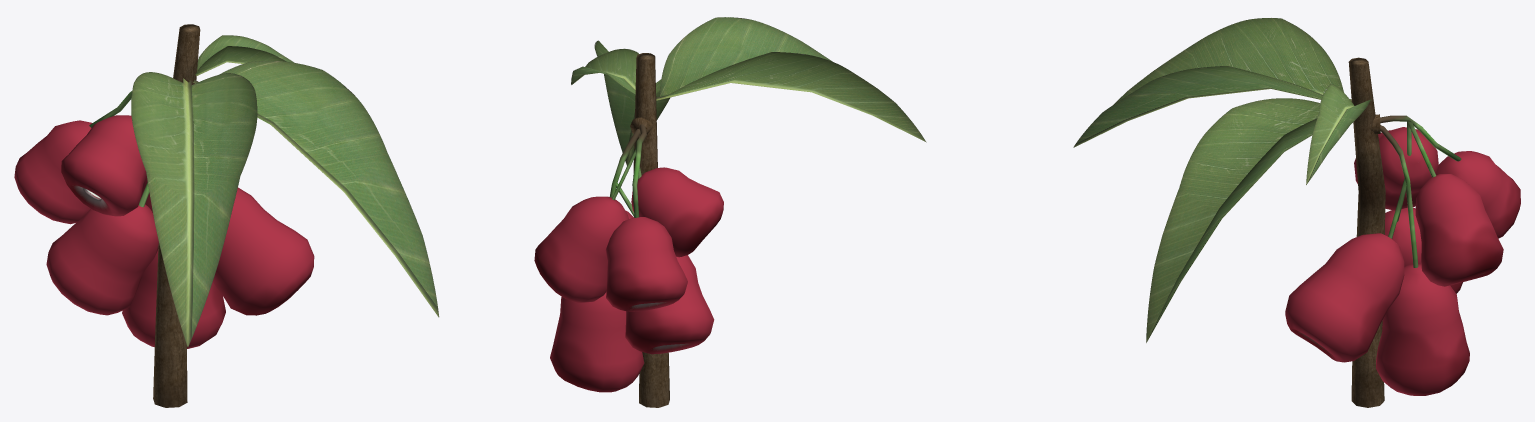
Rendered from Jambu.fbx.
The picture shows the model from 3 angles, left to right: view 1: azimuth 30°, elevation 25°; view 2: azimuth 150°, elevation 25°; view 3: azimuth 270°, elevation 25°; orthographic projection. The views are drawn at different scales.
Visible parts, largest first — view 1: pPlane1, pPlane2, pCylinder9, pCylinder8, pCylinder12, pCylinder1, pCylinder10, pCylinder5, pPlane3; view 2: pPlane1, pCylinder5, pCylinder11, pCylinder10, pCylinder12, pCylinder9, pCylinder1, pPlane2, pPlane3, pCylinder4, pCylinder3; view 3: pPlane2, pPlane1, pCylinder8, pCylinder5, pCylinder11, pCylinder1, pCylinder10, pCylinder12, pPlane3, pCylinder9, pCylinder3, pCylinder4.
Part boxes in pixels (x1,y1,x2,y2): pPlane1: [131, 72, 257, 346]; pPlane2: [193, 61, 439, 317]; pCylinder9: [46, 204, 158, 315]; pCylinder8: [212, 187, 314, 315]; pCylinder12: [61, 115, 146, 216]; pCylinder1: [153, 24, 200, 407]; pCylinder10: [14, 120, 92, 224]; pCylinder5: [122, 249, 225, 348]; pPlane3: [195, 35, 294, 75]; pPlane1: [656, 17, 926, 142]; pCylinder5: [550, 292, 644, 392]; pCylinder11: [534, 196, 628, 302]; pCylinder10: [605, 217, 687, 311]; pCylinder12: [631, 167, 723, 257]; pCylinder9: [625, 255, 714, 354]; pCylinder1: [633, 53, 669, 407]; pPlane2: [594, 40, 669, 165]; pPlane3: [571, 48, 638, 94]; pCylinder4: [632, 124, 646, 217]; pCylinder3: [609, 129, 640, 197]; pPlane2: [1146, 98, 1320, 342]; pPlane1: [1073, 18, 1351, 147]; pCylinder8: [1285, 233, 1404, 362]; pCylinder5: [1376, 264, 1469, 395]; pCylinder11: [1415, 174, 1503, 286]; pCylinder1: [1348, 57, 1385, 407]; pCylinder10: [1436, 151, 1520, 238]; pCylinder12: [1354, 127, 1438, 210]; pPlane3: [1306, 83, 1371, 184]; pCylinder9: [1385, 207, 1462, 293]; pCylinder3: [1380, 125, 1418, 267]; pCylinder4: [1380, 115, 1461, 161].
Size of the model in its own units: 7.9 by 6.91 by 9.04.
Materials: 2 (2 with a texture image).
